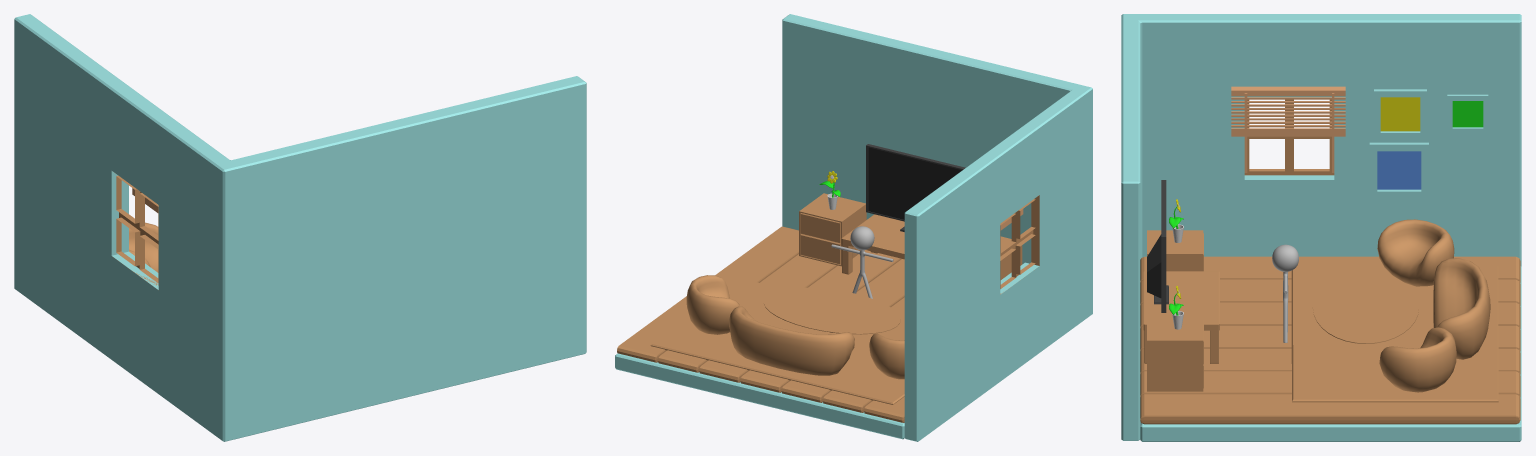
Rendered from room .fbx.
3 renders of one model, left to right at view 1: azimuth 30°, elevation 25°; view 2: azimuth 150°, elevation 25°; view 3: azimuth 270°, elevation 25°, orthographic. The views are drawn at different scales.
Parts seen in each view (by area): view 1: Wall.001, Cube.002, Cube.008; view 2: Wall.001, Wood floor 1.002, Plane.001, Cube.001, Floor.001, Circle, Cube.006, Cube.019, Cube, Table 1.002, Cube.002, Cube.008 (+1 smaller); view 3: Wall.001, Wood floor 1.002, Plane.001, Floor.001, Circle, Cube.007, Cube.001, Cube.019, Cube.008, Cube, Table 1.002, Cube.023 (+9 smaller).
Part boxes in pixels (x1,y1,x2,y2): Wall.001: (14,14,586,441); Cube.002: (113,173,158,285); Cube.008: (129,222,158,272); Wall.001: (782,14,1092,441); Wood floor 1.002: (617,226,904,422); Plane.001: (650,278,904,404); Cube.001: (729,306,854,375); Floor.001: (615,353,904,439); Circle: (763,287,900,334); Cube.006: (866,144,965,231); Cube.019: (799,193,866,266); Cube: (686,275,740,334); Table 1.002: (841,214,904,274); Cube.002: (1000,195,1039,294); Cube.008: (869,333,904,379); Wall.001: (1121,14,1521,440); Wood floor 1.002: (1140,256,1520,424); Plane.001: (1291,265,1498,402); Floor.001: (1140,266,1521,441); Circle: (1312,271,1418,343); Cube.007: (1231,86,1345,172); Cube.001: (1433,258,1490,359); Cube.019: (1147,316,1203,391); Cube.008: (1377,219,1454,286); Cube: (1379,327,1456,392); Table 1.002: (1143,271,1219,363); Cube.023: (1369,142,1428,198).
Bounding box in the file's own units: 134 × 96.06 × 134.
